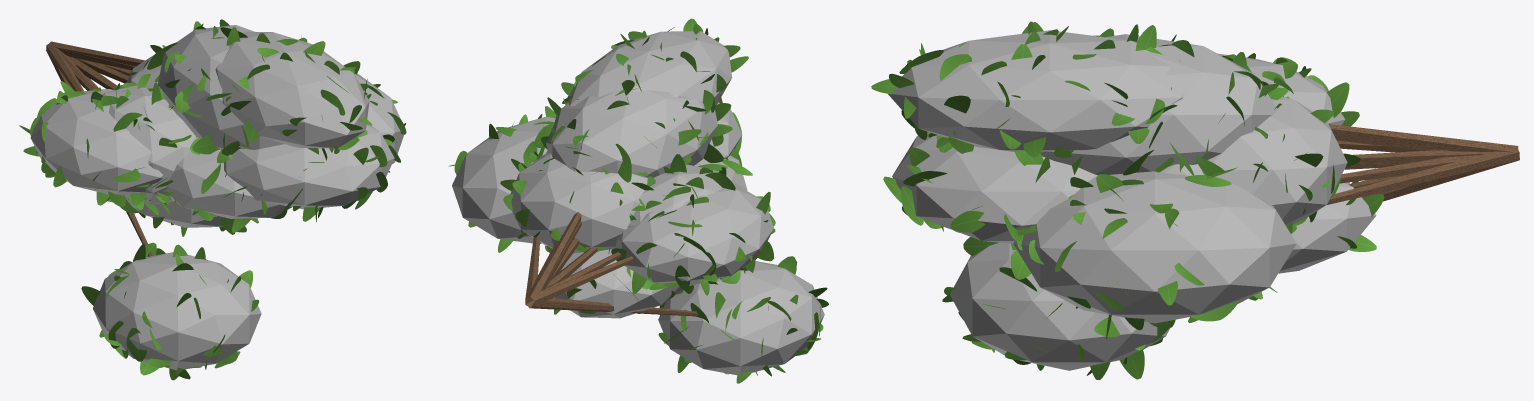
The model's file is Bush_03.obj.
3 renders of one model, left to right at view 1: azimuth 30°, elevation 25°; view 2: azimuth 150°, elevation 25°; view 3: azimuth 270°, elevation 25°, orthographic. The views are drawn at different scales.
Visible parts, largest first — view 1: canopy, leaves, trunk; view 2: canopy, leaves, trunk; view 3: canopy, leaves, trunk.
Part boxes in pixels (<box>): canopy: <box>30,25,403,370</box>; leaves: <box>19,19,406,380</box>; trunk: <box>46,41,153,256</box>; canopy: <box>452,31,824,375</box>; leaves: <box>448,18,828,383</box>; trunk: <box>525,212,697,316</box>; canopy: <box>888,30,1376,370</box>; leaves: <box>871,21,1384,379</box>; trunk: <box>1327,124,1519,204</box>.
Bounding box in the file's own units: 1.77 × 1.51 × 2.18.
3 materials, 2 textured.
